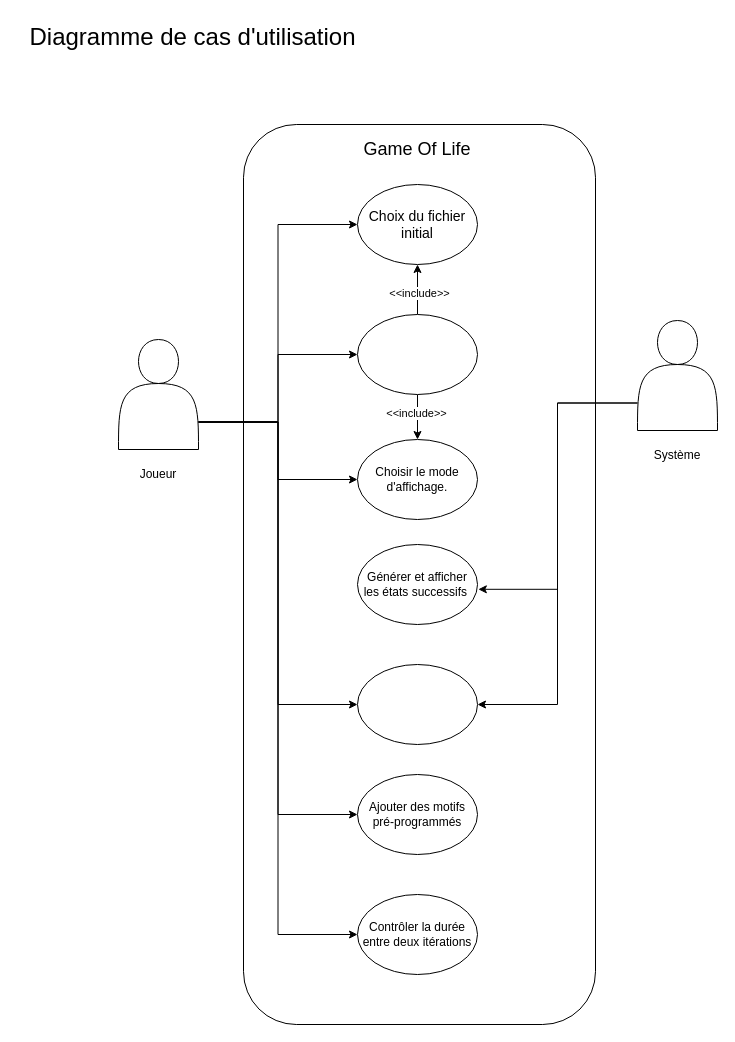
The diagram is 735 pixels wide and 1042 high, and some of its shapes have lost their labels. Each missing label, with the centre of its shape:
"Arrêter la simulation" goes at pixel 417 704.
"Exécution du programme" goes at pixel 417 354.
